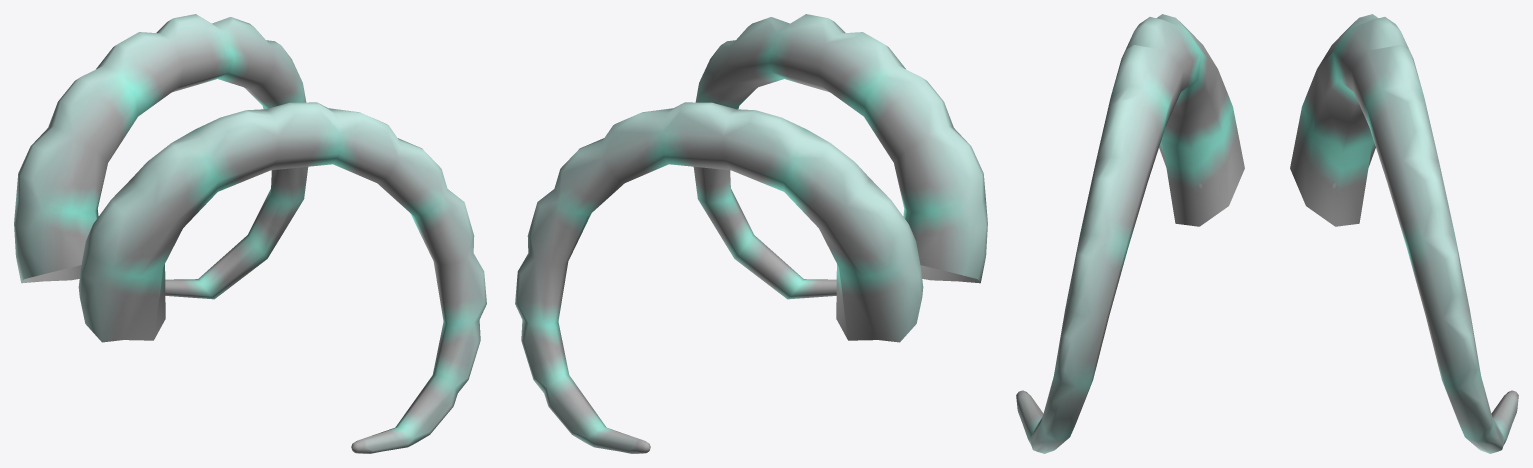
File: titaniumHornFBX.fbx
The picture shows the model from 3 angles, left to right: view 1: azimuth 30°, elevation 25°; view 2: azimuth 150°, elevation 25°; view 3: azimuth 270°, elevation 25°; orthographic projection. The views are drawn at different scales.
Parts seen in each view (by area): view 1: Cone002_001; view 2: Cone002_001; view 3: Cone002_001.
Part boxes in pixels (bbox=[...]): Cone002_001: bbox=[14, 14, 486, 453]; Cone002_001: bbox=[515, 14, 987, 453]; Cone002_001: bbox=[1016, 14, 1518, 453].
Size of the model in its own units: 15.71 by 14.24 by 17.74.
